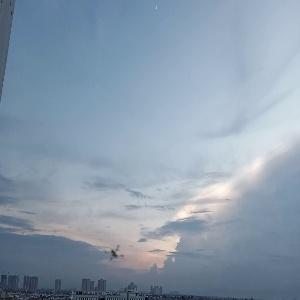drone: (83, 220, 148, 285)
